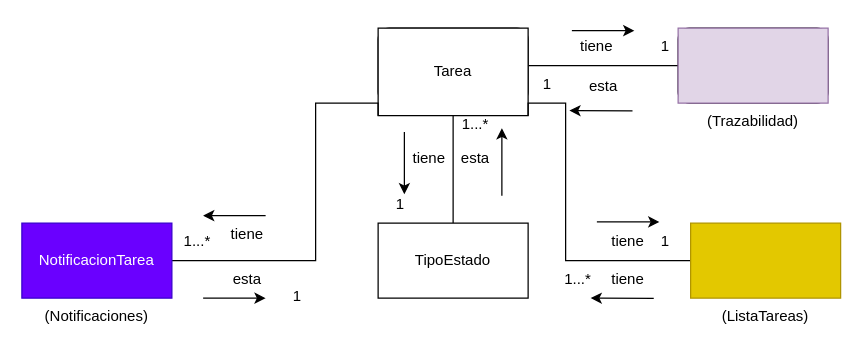
This 863x358 diagram has some shape labels left out. The centre of each missing label's shape, as x and y in pixels:
"HistorialTrazabilidad" belongs at pixel 752 65.
"TareaLista" belongs at pixel 765 260.
